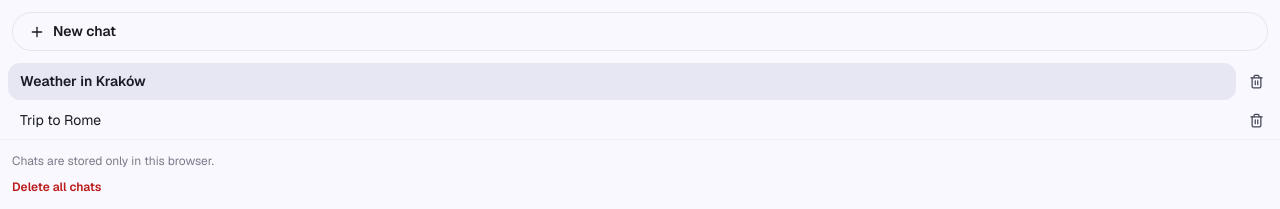
Test: ChatList › brings the row back on Cancel, with focus on its delete button
The width and height of the screenshot is (1280, 209).
Click the button named "Delete chat: Trip to Rome" at (1256, 120), box [1240, 104, 1272, 136]
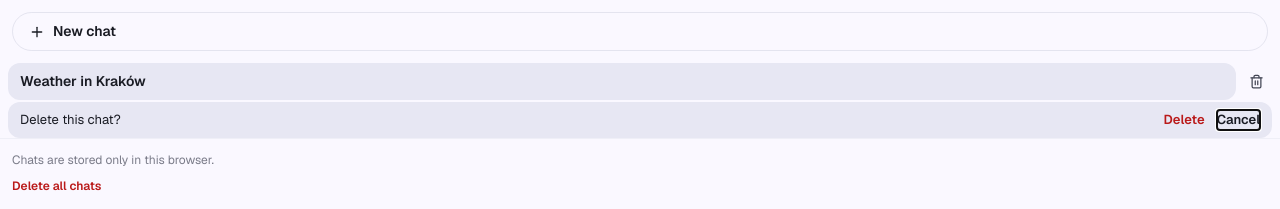
Click the button "Cancel" at (1238, 120), box [1217, 110, 1260, 130]
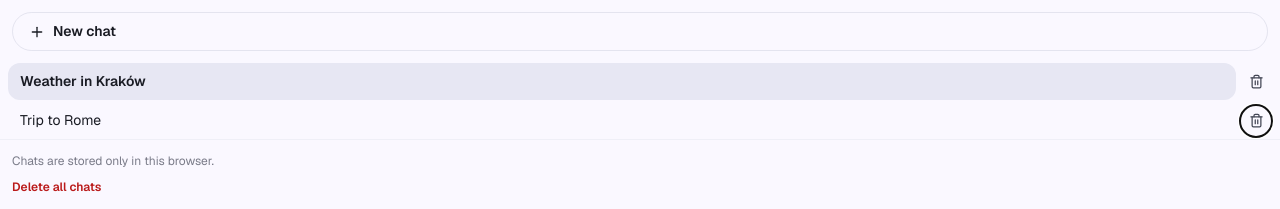
Expected: the button "Trip to Rome" is shown, [8, 102, 1236, 139]
